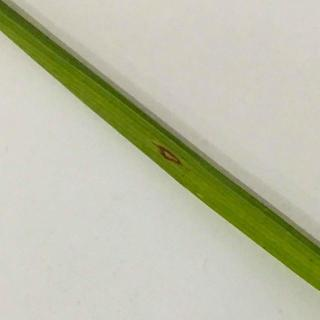Blast: (141, 124, 203, 190)
